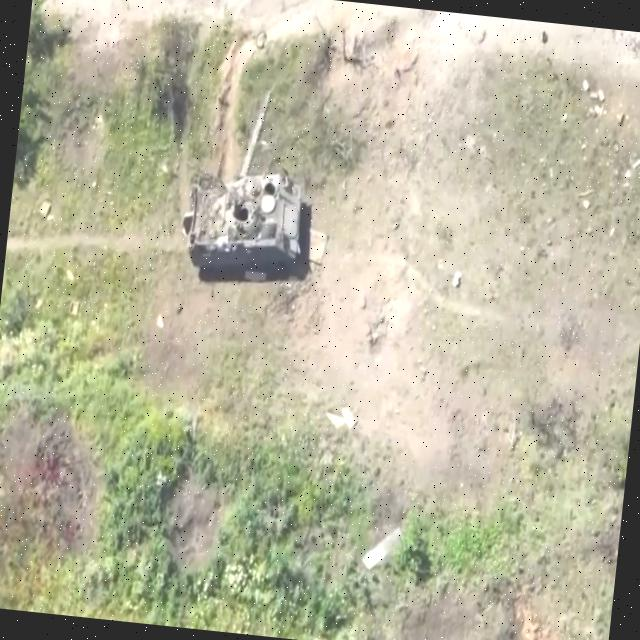APC: (177, 157, 319, 290)
